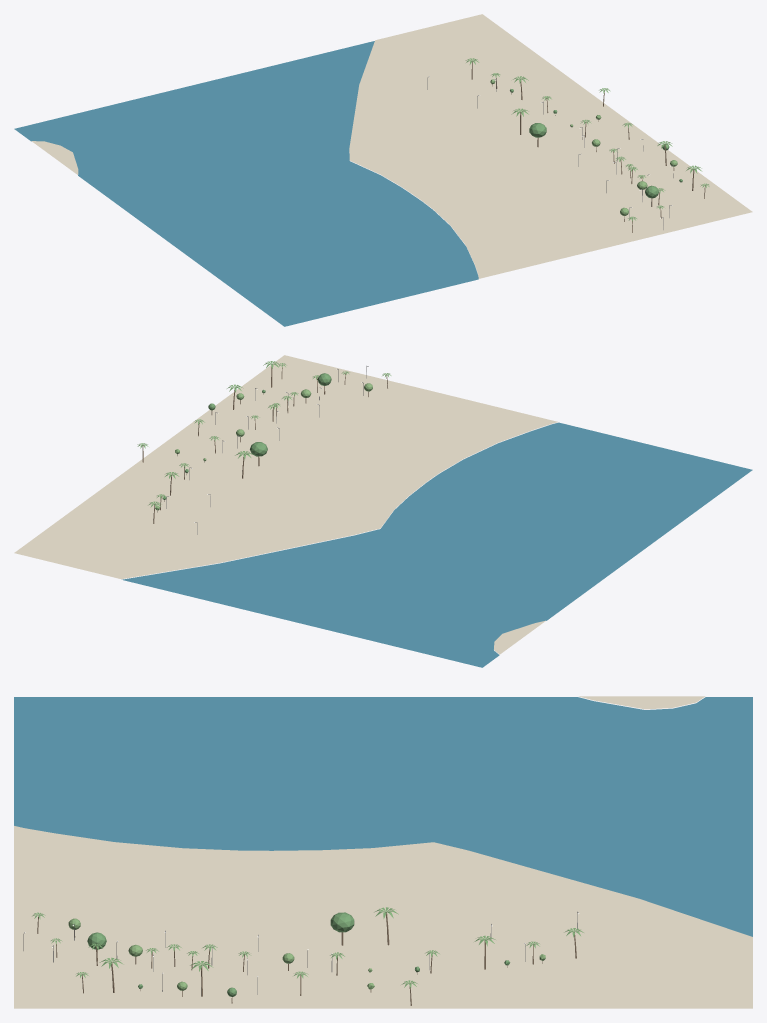
Rendered from nature_4_4.glb.
3 views of the same model, one above another, from view 1: azimuth 30°, elevation 25°; view 2: azimuth 150°, elevation 25°; view 3: azimuth 270°, elevation 25° (orthographic). The views are drawn at different scales.
Visible parts, largest first — view 1: water, ground, palm_leaf; view 2: water, ground, palm_leaf, trunk; view 3: water, ground, palm_leaf, trunk, foliage_a, foliage_b.
Part boxes in pixels (left/top/right/bottom): water: left=14, top=41, right=478, bottom=326; ground: left=31, top=14, right=752, bottom=278; palm_leaf: left=465, top=58, right=709, bottom=221; water: left=122, top=422, right=752, bottom=667; ground: left=14, top=355, right=557, bottom=654; palm_leaf: left=137, top=361, right=391, bottom=508; trunk: left=142, top=366, right=387, bottom=523; water: left=14, top=697, right=752, bottom=936; ground: left=14, top=696, right=752, bottom=1008; palm_leaf: left=32, top=907, right=583, bottom=988; trunk: left=37, top=912, right=576, bottom=1005; foliage_a: left=87, top=912, right=510, bottom=996; foliage_b: left=68, top=918, right=545, bottom=990.
Size of the model in its own units: 251 by 13.05 by 250.
